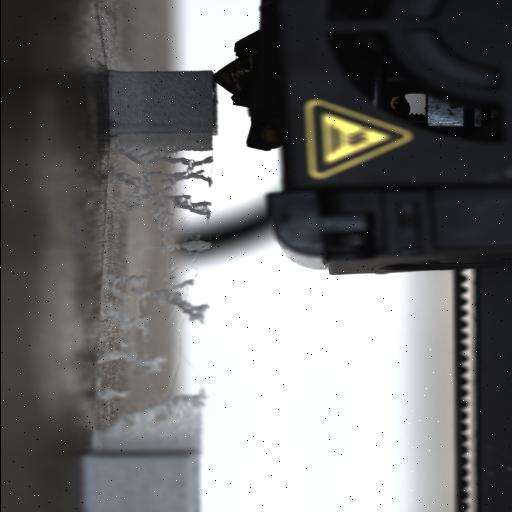stringing: (110, 143, 214, 239), (104, 266, 209, 332), (98, 386, 208, 434)
